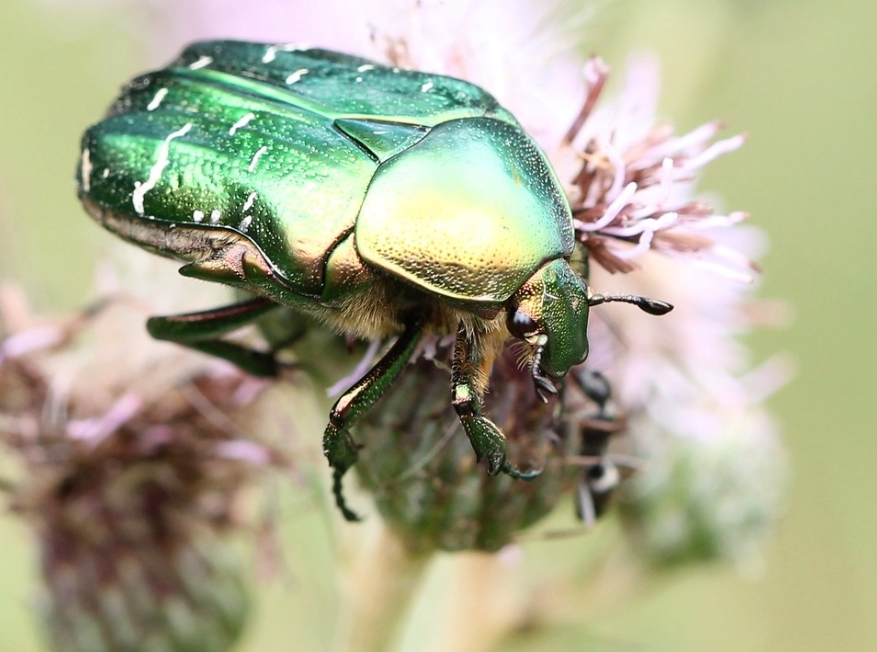Cetonia_aurata: (68, 16, 682, 527)
